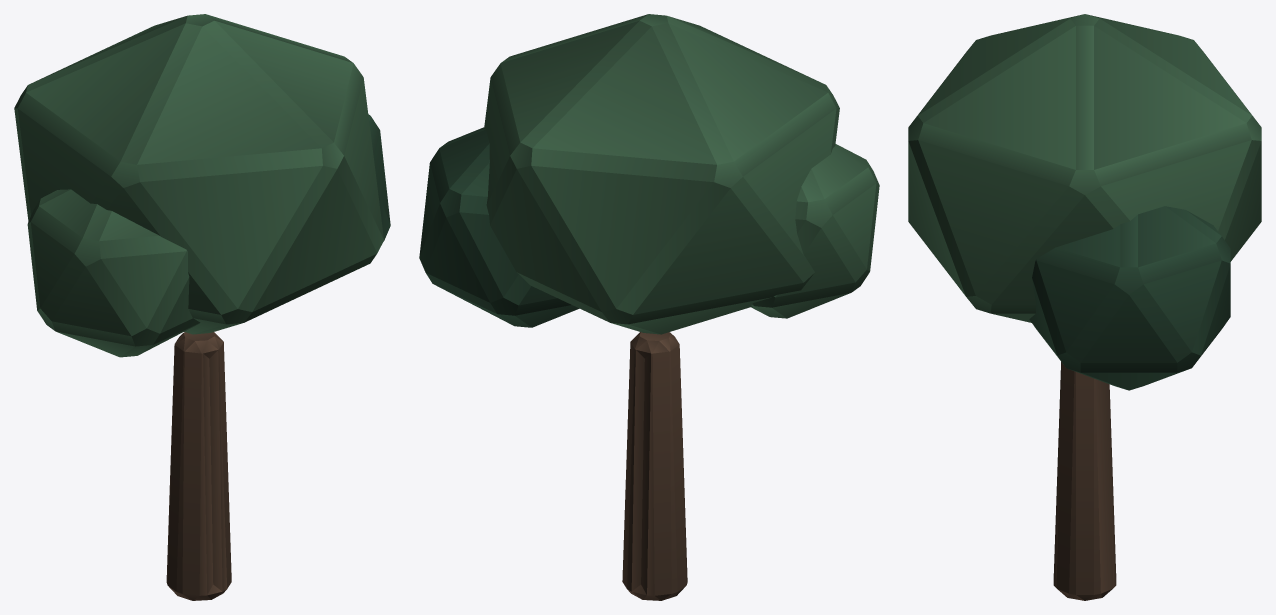
The model's file is dt_street_tree.fbx.
The picture shows the model from 3 angles, left to right: view 1: azimuth 30°, elevation 25°; view 2: azimuth 150°, elevation 25°; view 3: azimuth 270°, elevation 25°; orthographic projection.
Visible parts, largest first — view 1: dt_street_tree; view 2: dt_street_tree; view 3: dt_street_tree.
Part boxes in pixels (x1,y1,x2,y2): dt_street_tree: [14, 14, 390, 600]; dt_street_tree: [419, 14, 879, 600]; dt_street_tree: [908, 14, 1261, 600].
Bounding box in the file's own units: 636 × 900 × 505.
